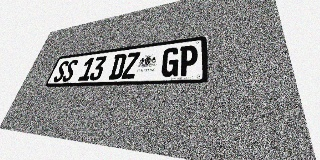1: (78, 57, 96, 81)
3: (88, 56, 107, 81)
D: (108, 53, 127, 80)
G: (160, 47, 180, 77)
P: (178, 45, 198, 76)
S: (61, 59, 79, 82), (52, 60, 70, 82)
Z: (121, 52, 141, 79)
